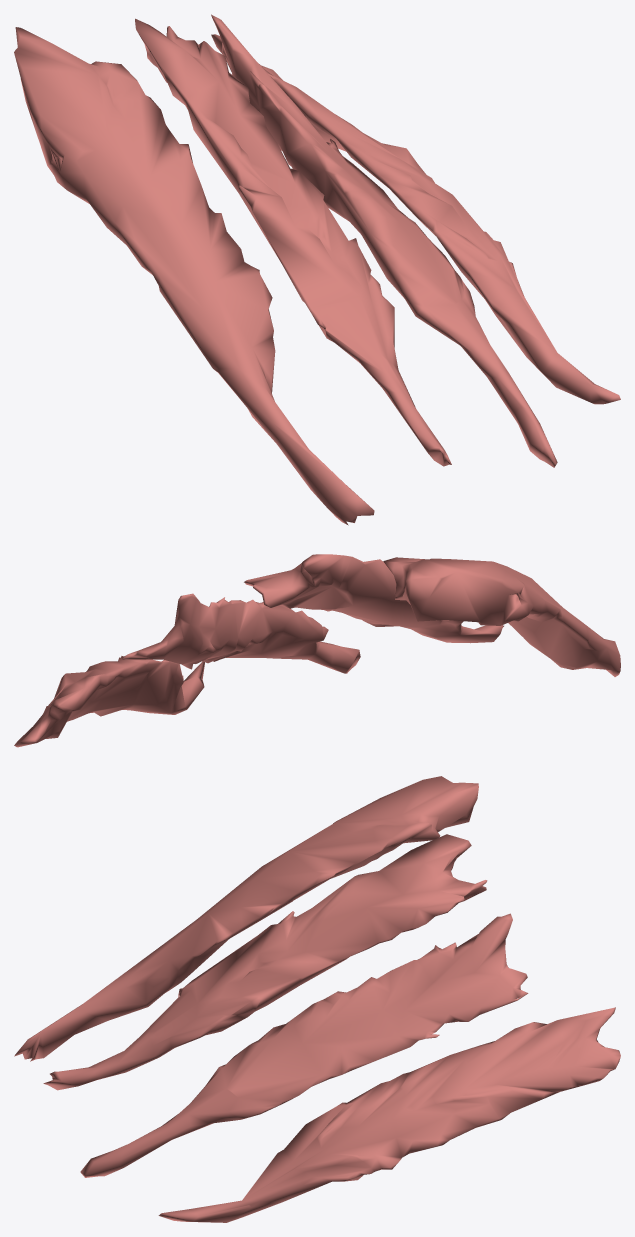
3 renders of one model, top to bottom at view 1: azimuth 30°, elevation 25°; view 2: azimuth 150°, elevation 25°; view 3: azimuth 270°, elevation 25°, orthographic. The views are drawn at different scales.
Parts seen in each view (by area): view 1: ZA_a0c8f206d41e2069; view 2: ZA_a0c8f206d41e2069; view 3: ZA_a0c8f206d41e2069.
Part boxes in pixels (x1=…): ZA_a0c8f206d41e2069: x1=14, y1=14, x2=620, y2=525; ZA_a0c8f206d41e2069: x1=14, y1=554, x2=620, y2=747; ZA_a0c8f206d41e2069: x1=14, y1=776, x2=620, y2=1222.
Size of the model in its own units: 0.0513 by 0.0369 by 0.0722.
